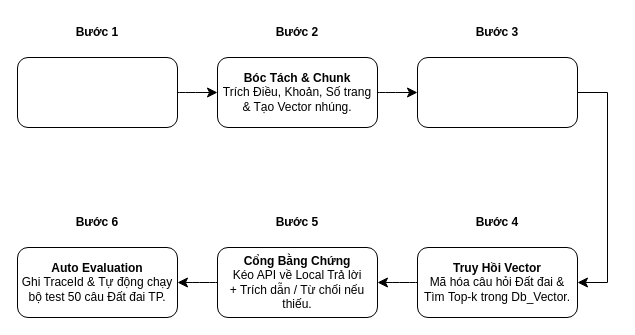
The diagram is 635 pixels wide and 335 high, and some of its shapes have lost their labels. The shapes that lost their labels are listed below. From the top down, each one's box as (x1, y1, x2, y2) in pixels, then its label:
(16, 56, 178, 128): Nạp dữ liệu Bộ pháp điển hoặc file do chuyên viên pháp chế nạp.
(416, 56, 578, 128): Lưu trữ tri thức 2 DB con: Db_Business (Thô/Log) & Db_Vector (Embeddings).
